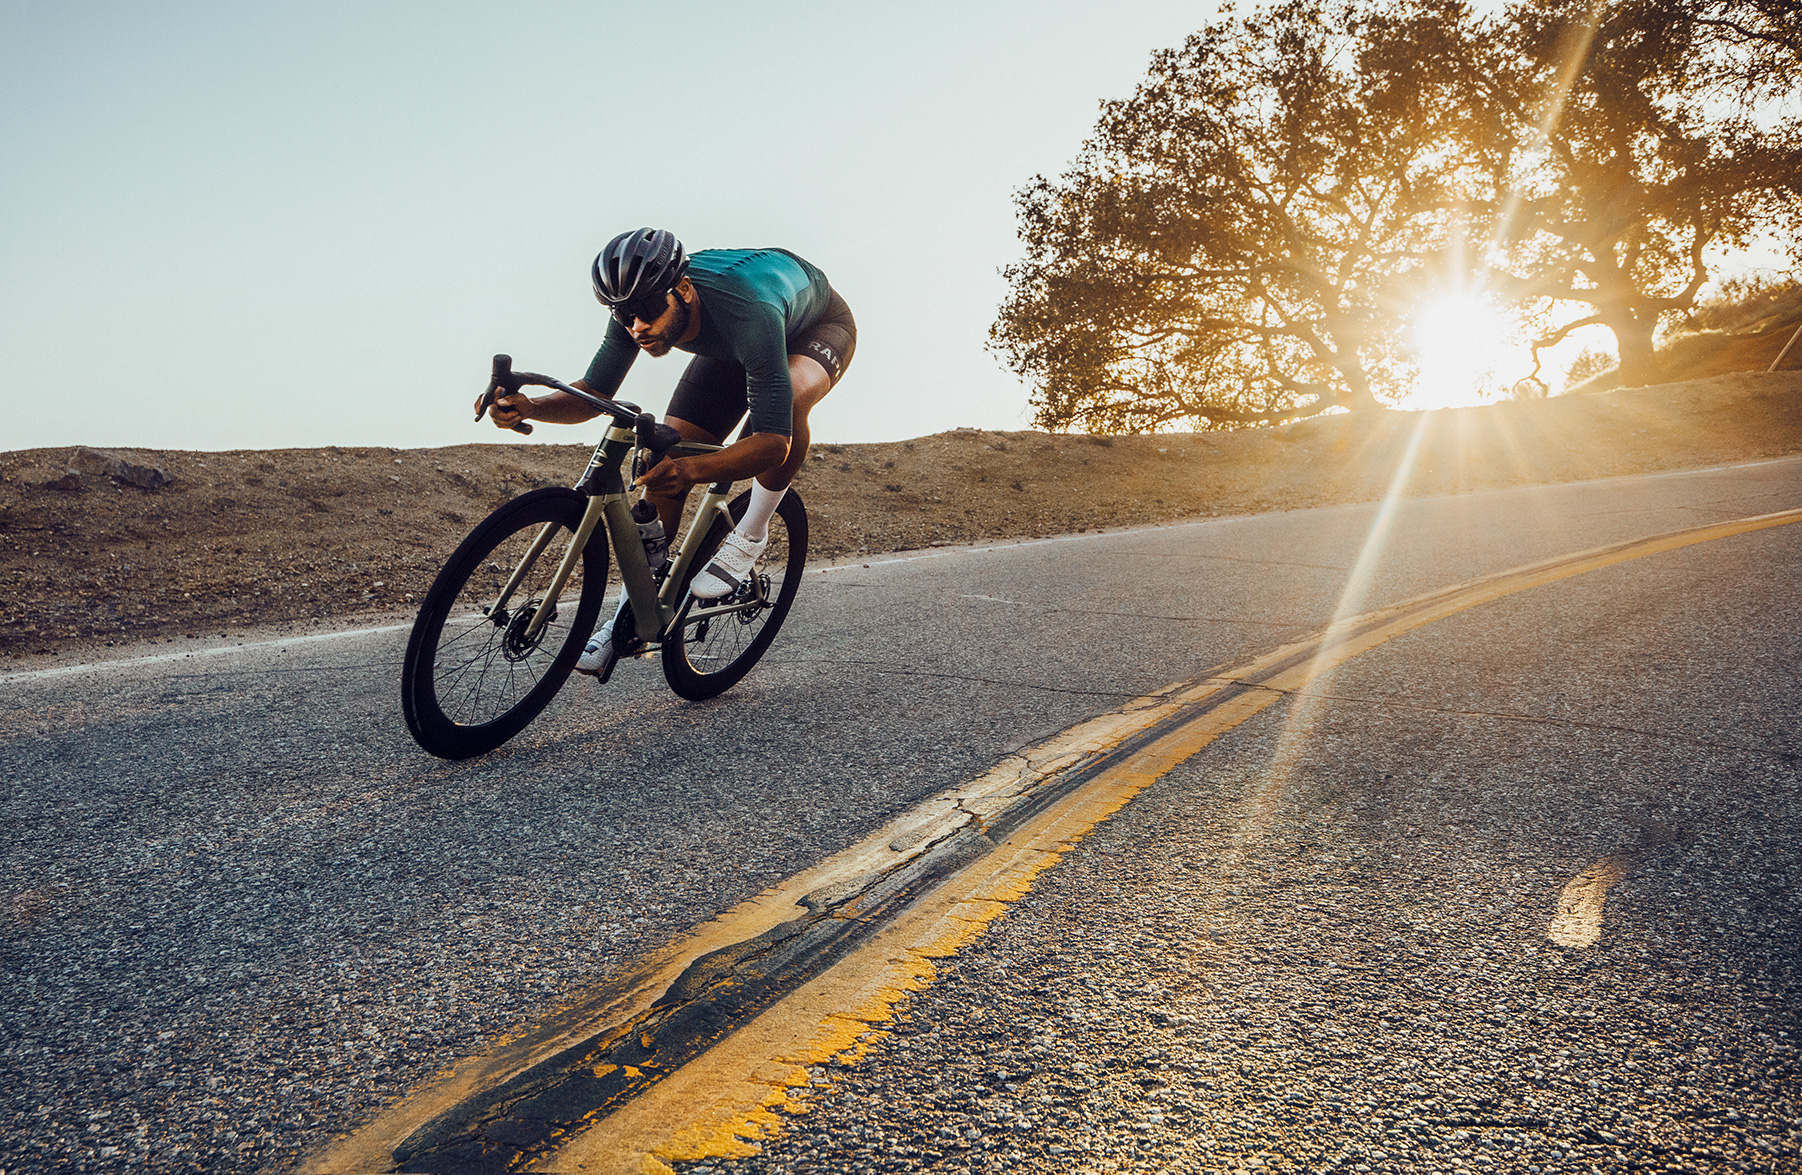helmet: (587, 219, 686, 306)
